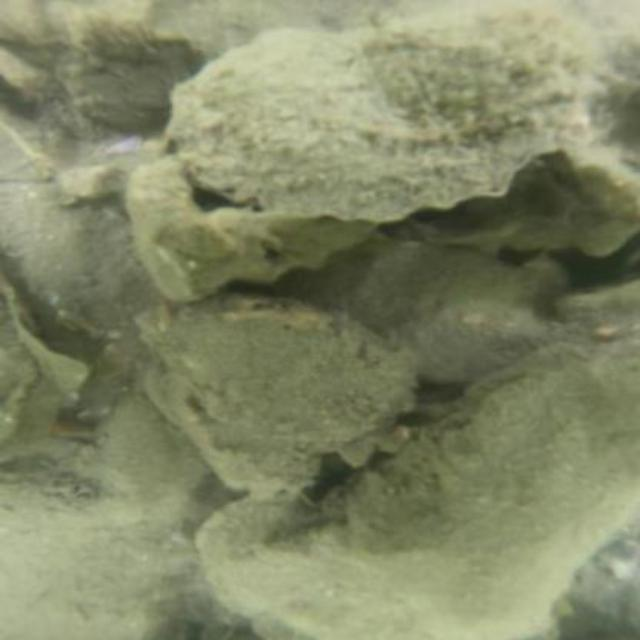Oyster-Closed: (284, 329, 638, 638), (171, 6, 607, 216), (188, 486, 559, 638), (146, 301, 415, 477), (340, 246, 570, 382)
Oyster-Open: (120, 150, 386, 301)
